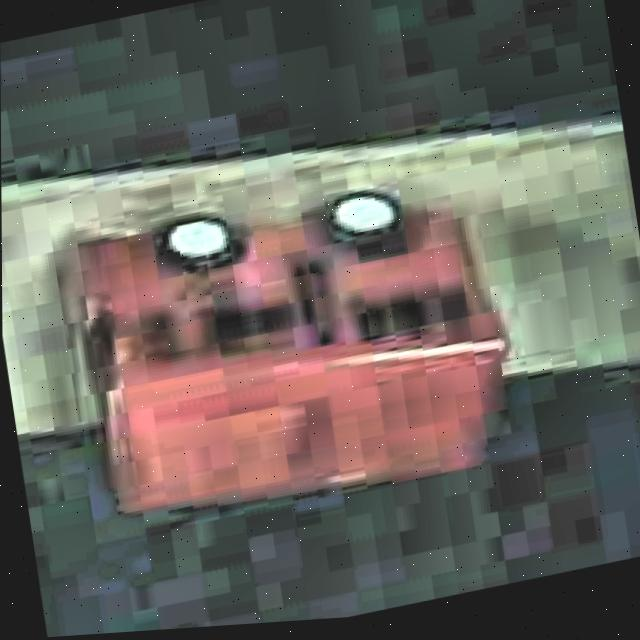bus: (60, 148, 525, 553)
